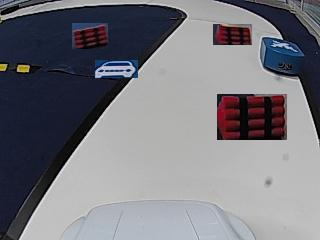prop: (261, 37, 303, 77)
